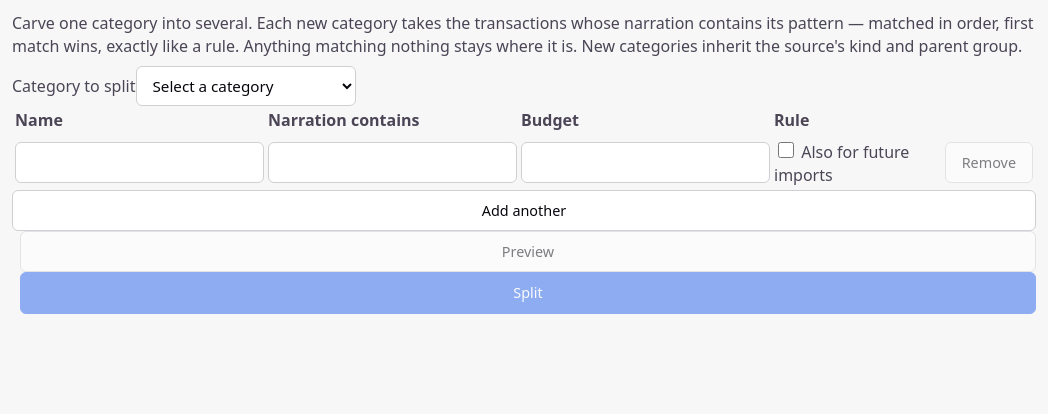
Test case: CategorySplitter › shows what a split would move, and what would stay behind
Select "Groceries" in the dropdown labelled "Category to split": {"x": 246, "y": 86} x1=136 y1=66 x2=356 y2=106
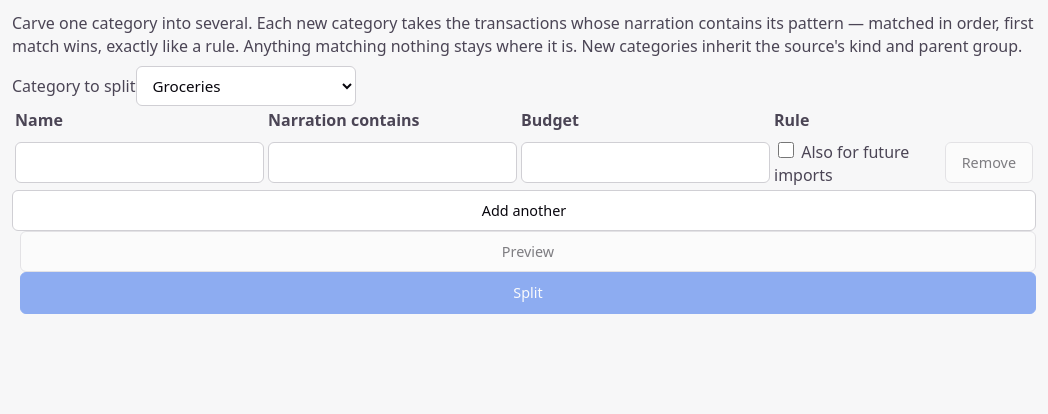
In the field named "Name for new category 1": {"x": 140, "y": 163} x1=15 y1=142 x2=264 y2=183, type "Alcohol"
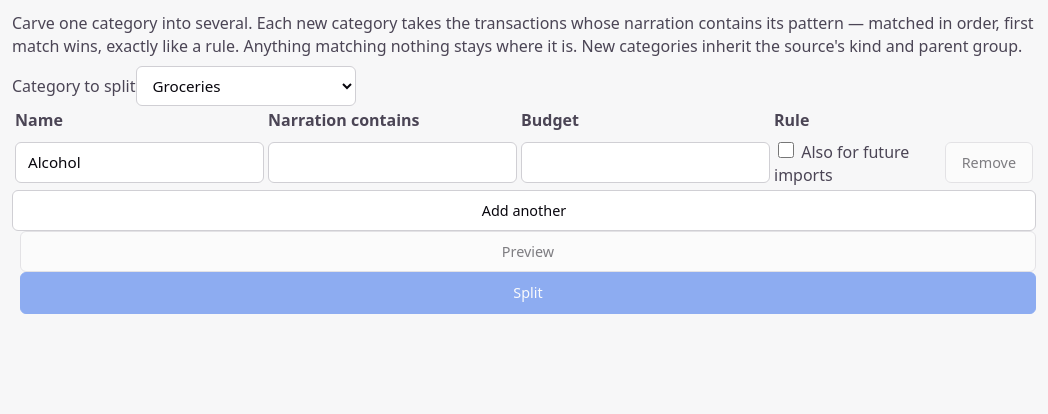
In the field named "Narration pattern for new category 1": {"x": 392, "y": 163} x1=268 y1=142 x2=517 y2=183, type "bws"
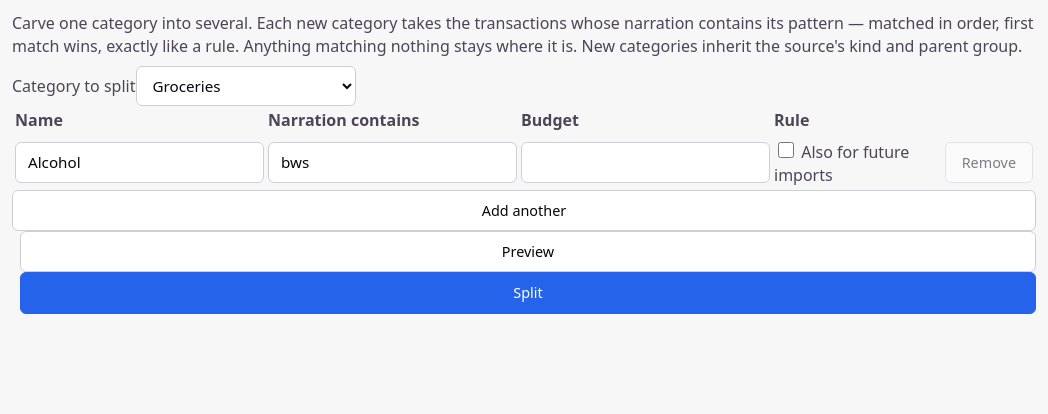
Click the button "Preview": {"x": 528, "y": 252} x1=20 y1=231 x2=1036 y2=272
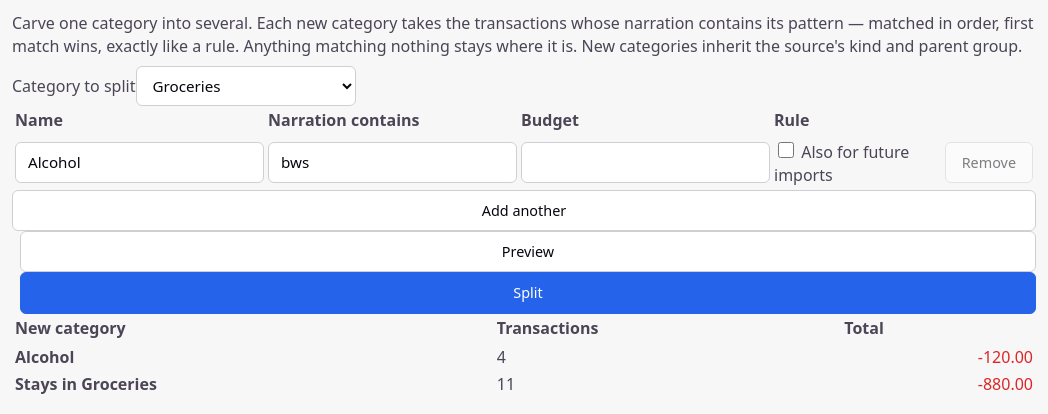
expect the text "4" is shown: met, box x1=496 y1=345 x2=841 y2=370
expect the column heading "Stays in Groceries" is shown: met, box x1=14 y1=372 x2=494 y2=397
expect the text "11" is shown: met, box x1=496 y1=372 x2=841 y2=397
